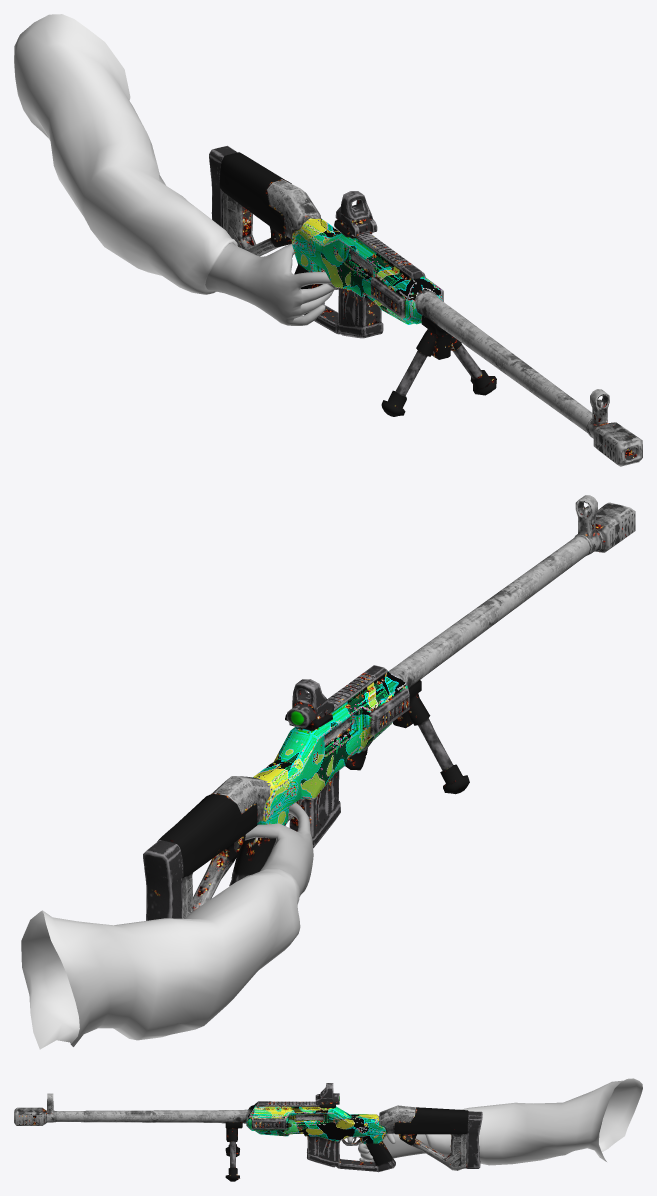
The model's file is SniperAnim.fbx.
3 views of the same model, one above another, from view 1: azimuth 30°, elevation 25°; view 2: azimuth 150°, elevation 25°; view 3: azimuth 270°, elevation 25° (orthographic). The views are drawn at different scales.
Visible parts, largest first — view 1: polySurface1.007; view 2: polySurface1.007; view 3: polySurface1.007.
Boxes of the visible parts, box(x1,y1,x2,y2) form: polySurface1.007: box(14, 14, 642, 466); polySurface1.007: box(21, 495, 635, 1049); polySurface1.007: box(14, 1078, 642, 1181).
Bounding box in the file's own units: 31.77 × 33.05 × 196.
